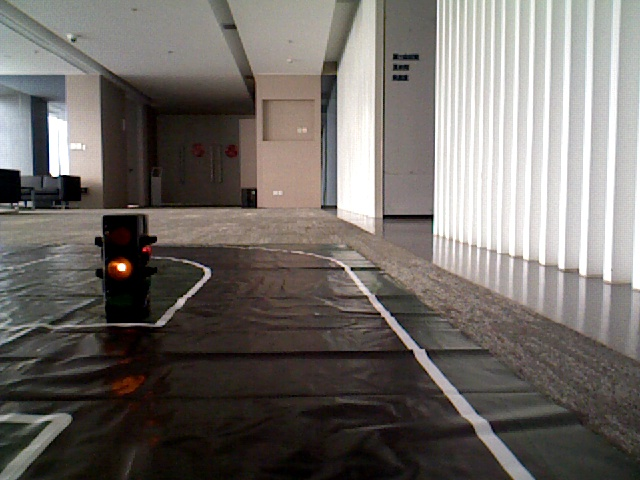yellow: (102, 220, 141, 305)
